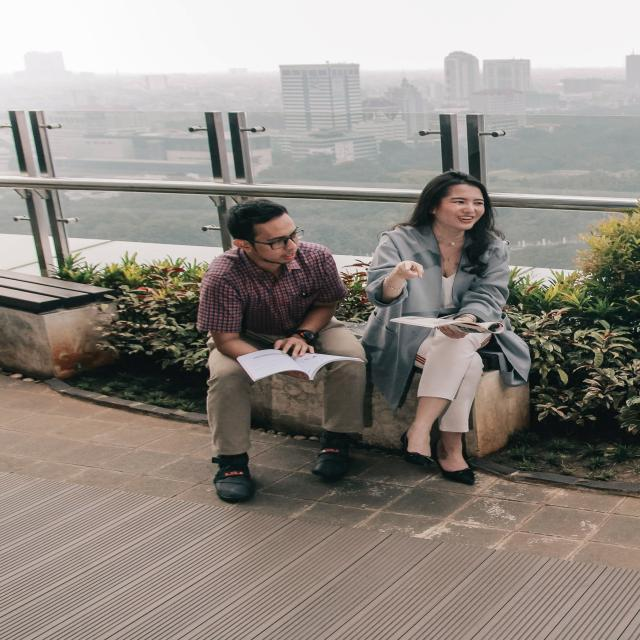nonfall: (174, 196, 373, 508), (365, 154, 530, 484)
